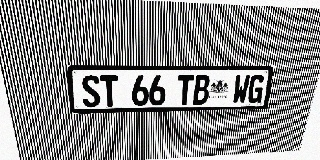6: (132, 75, 149, 106), (149, 75, 166, 106)
B: (193, 75, 211, 105)
G: (247, 75, 266, 103)
S: (81, 75, 101, 107)
T: (100, 75, 119, 107), (177, 75, 194, 105)
W: (232, 75, 251, 104)
